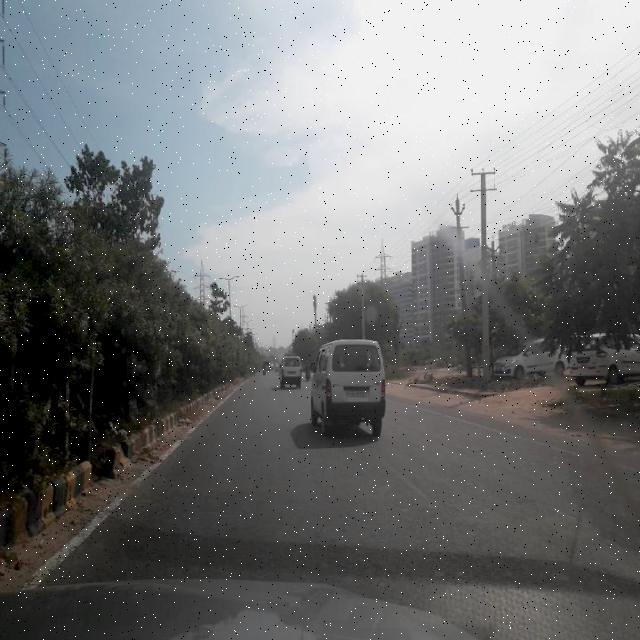D20: (52, 437, 640, 584)
D44: (461, 418, 640, 474), (380, 451, 436, 502)
